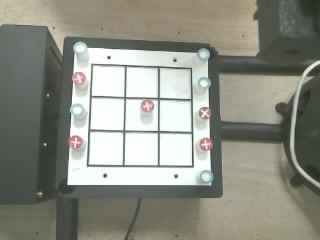blue circle: (70, 104, 85, 116), (198, 48, 211, 61), (200, 170, 213, 183), (73, 42, 87, 54), (198, 77, 211, 88)
board: (67, 47, 212, 185)
cells: (89, 132, 122, 164), (125, 133, 157, 165), (90, 98, 123, 129), (125, 99, 157, 130), (160, 134, 191, 165), (160, 100, 191, 131), (92, 66, 124, 96), (126, 67, 157, 97), (160, 68, 190, 98)
grid: (87, 64, 193, 167)
red cross: (68, 135, 83, 149), (72, 72, 85, 85), (199, 137, 212, 150), (198, 107, 211, 119), (141, 100, 153, 111)
